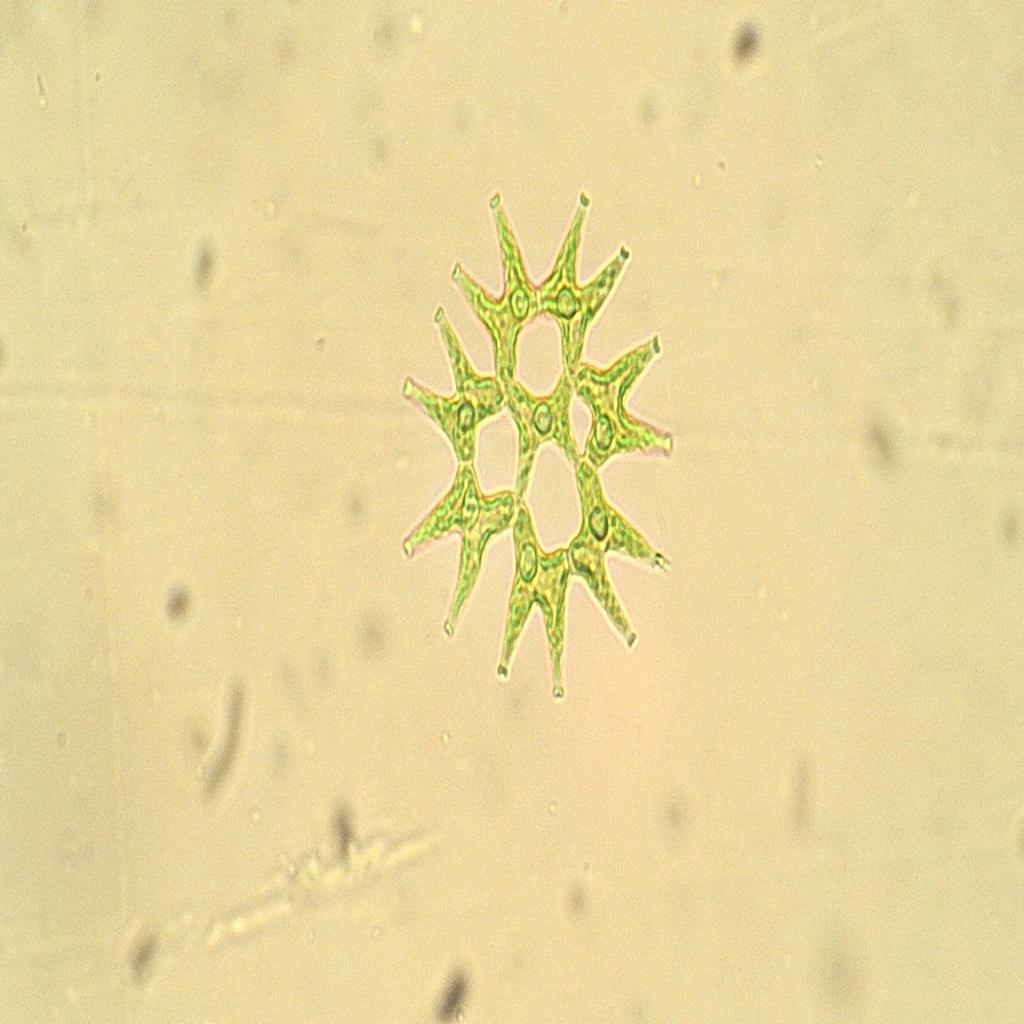Pediastrum_CTH: (395, 159, 688, 716)
